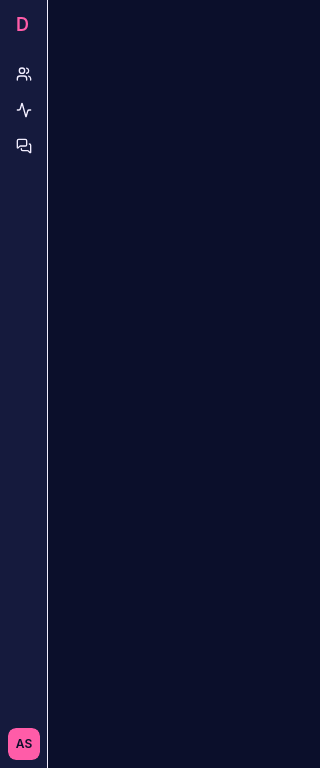
Test case: AppSidebar (menu lateral das telas internas, UX only) › recolhido, o grupo Usuários expande o menu e abre o grupo
Click the button "Usuários" at (24, 74), box [8,58,40,90]
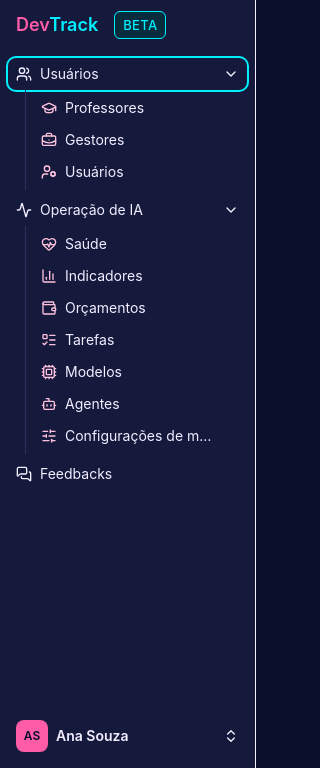
Now the button "Usuários" is expanded, box [8,58,247,90]
